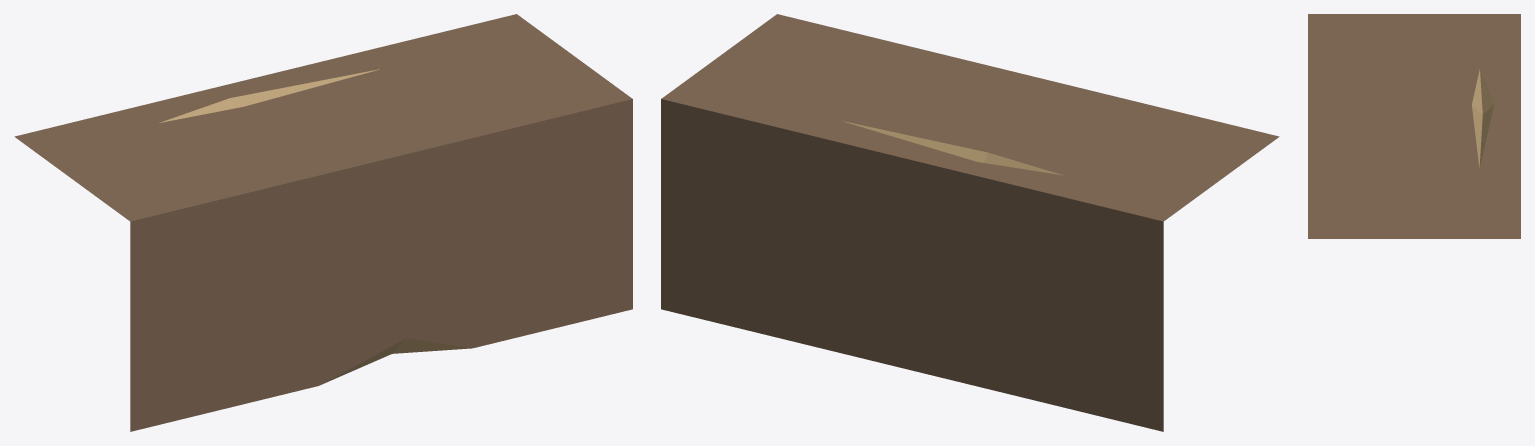
The model's file is Cave_Prop_Support_Ceiling_Beam_1.glb.
3 views of the same model, side by side, from view 1: azimuth 30°, elevation 25°; view 2: azimuth 150°, elevation 25°; view 3: azimuth 270°, elevation 25° (orthographic). The views are drawn at different scales.
Visible parts, largest first — view 1: Cave_Prop_Support_Ceiling_Beam_1; view 2: Cave_Prop_Support_Ceiling_Beam_1; view 3: Cave_Prop_Support_Ceiling_Beam_1.
Part boxes in pixels (<box>): Cave_Prop_Support_Ceiling_Beam_1: <box>14,14,632,431</box>; Cave_Prop_Support_Ceiling_Beam_1: <box>661,14,1279,431</box>; Cave_Prop_Support_Ceiling_Beam_1: <box>1308,14,1520,238</box>.
Bounding box in the file's own units: 1 × 0.4 × 0.4.
